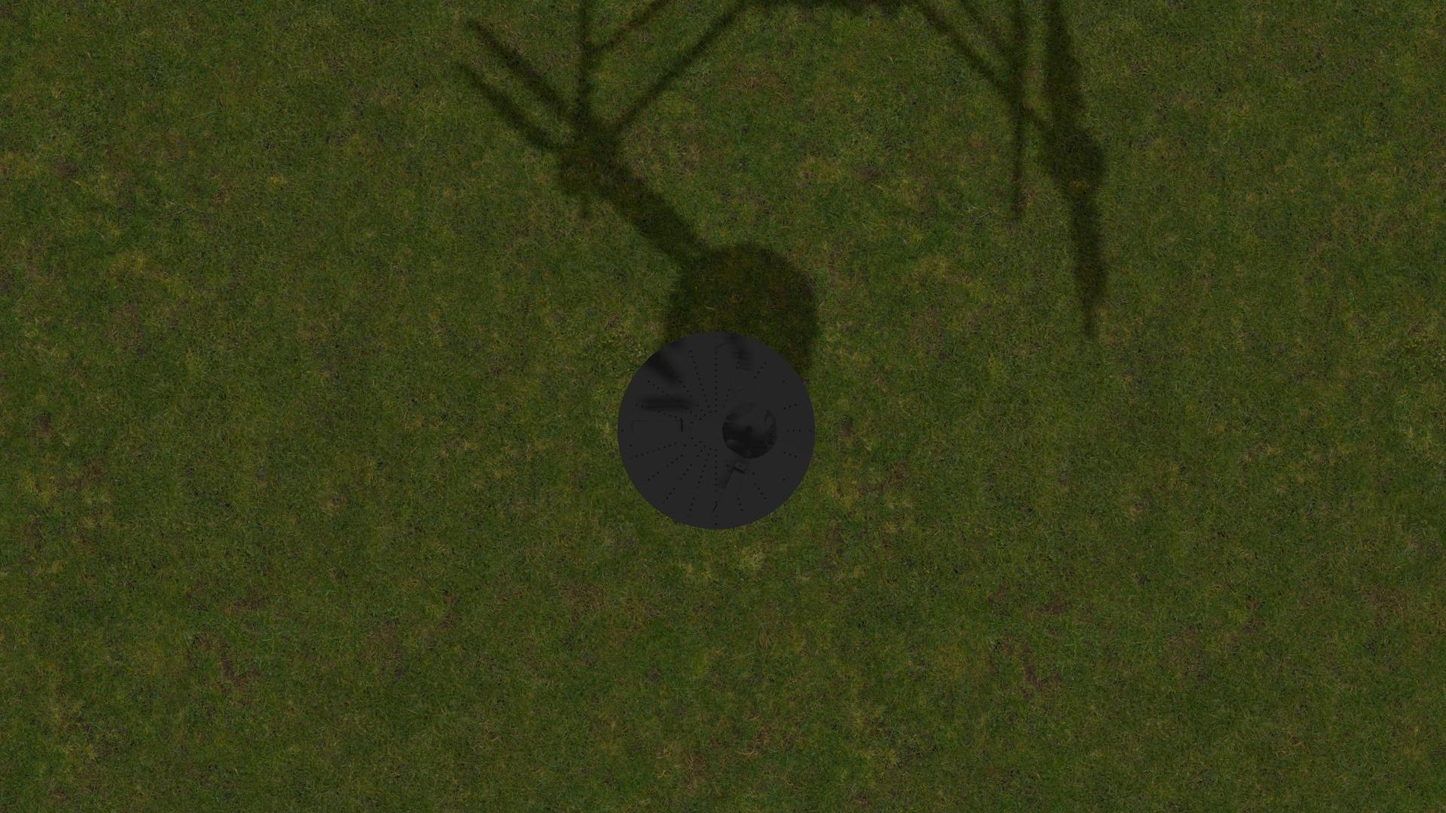alca: (710, 460, 748, 520), (713, 338, 748, 399), (628, 419, 689, 433)
armadilha: (617, 331, 815, 530)
